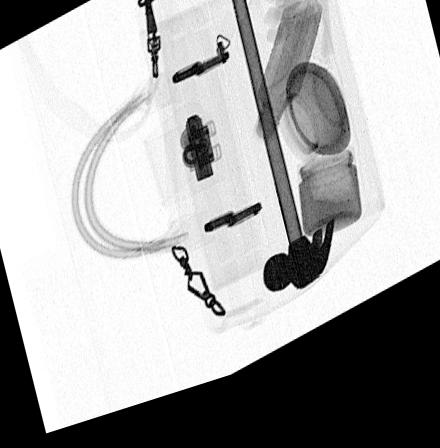Hammer: (227, 0, 334, 310)
